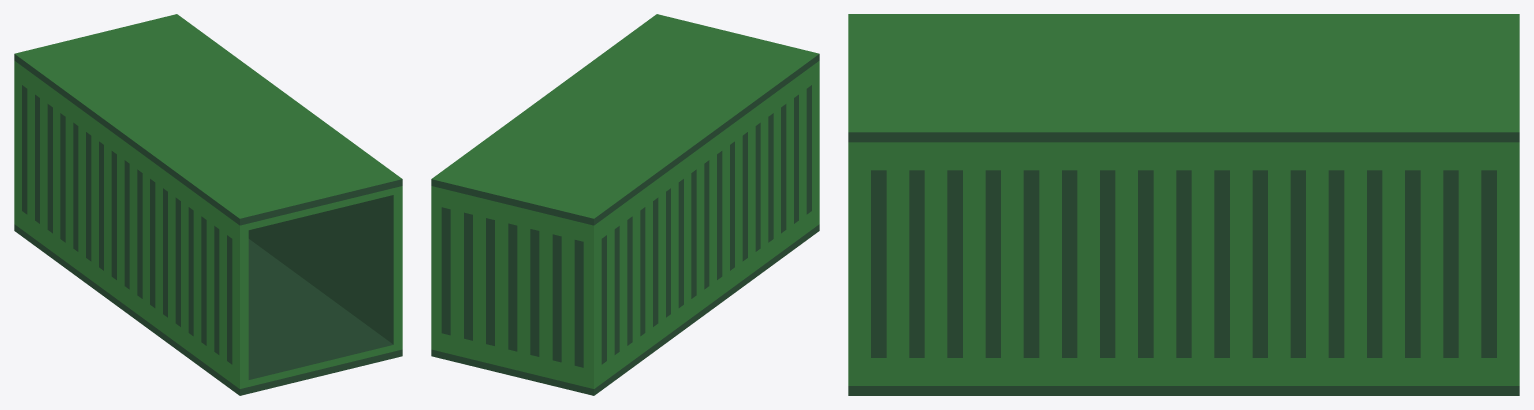
Rendered from cargo-shipping-base_green.glb.
3 renders of one model, left to right at view 1: azimuth 30°, elevation 25°; view 2: azimuth 150°, elevation 25°; view 3: azimuth 270°, elevation 25°, orthographic. The views are drawn at different scales.
Parts seen in each view (by area): view 1: cargo-shipping-base_green; view 2: cargo-shipping-base_green; view 3: cargo-shipping-base_green.
Part boxes in pixels (x1,y1,x2,y2): cargo-shipping-base_green: (14,14,402,395); cargo-shipping-base_green: (431,14,819,395); cargo-shipping-base_green: (848,14,1519,395).
Bounding box in the file's own units: 2.5 × 2.6 × 6.
1 material, 1 textured.
